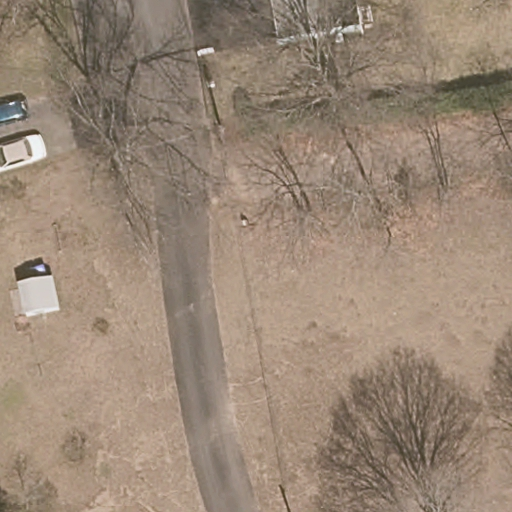DT: (195, 44, 217, 90)
